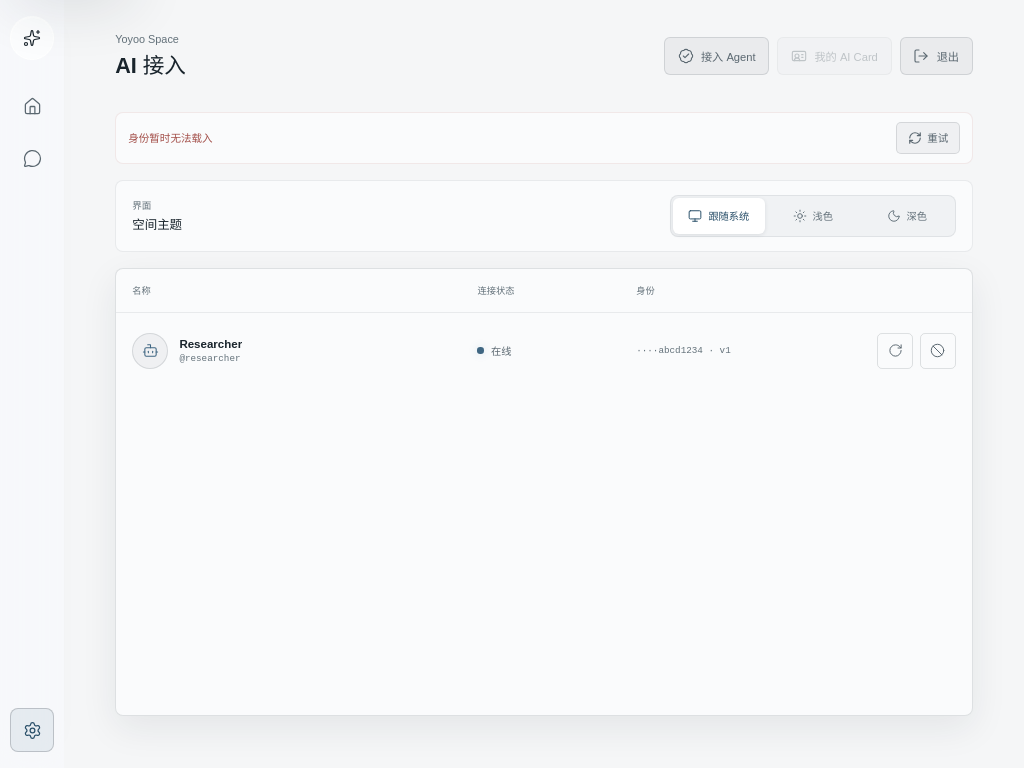
Test case: AgentDirectory › keeps identity loading failures visible and retryable
The image size is (1024, 768).
Expected: the text "身份暂时无法载入" is shown, [128, 130, 213, 145]
Click the button with aria-label "重新载入身份": (928, 138) [896, 122, 960, 154]
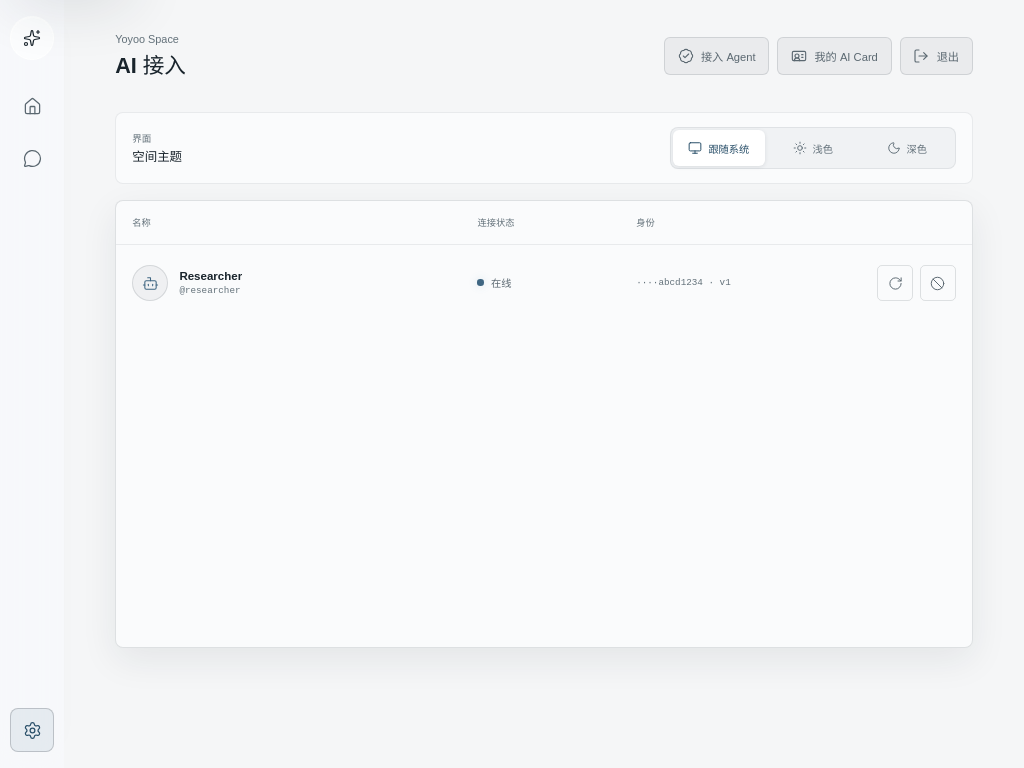
Expected: the button "我的 AI Card" is enabled, [777, 37, 892, 75]
